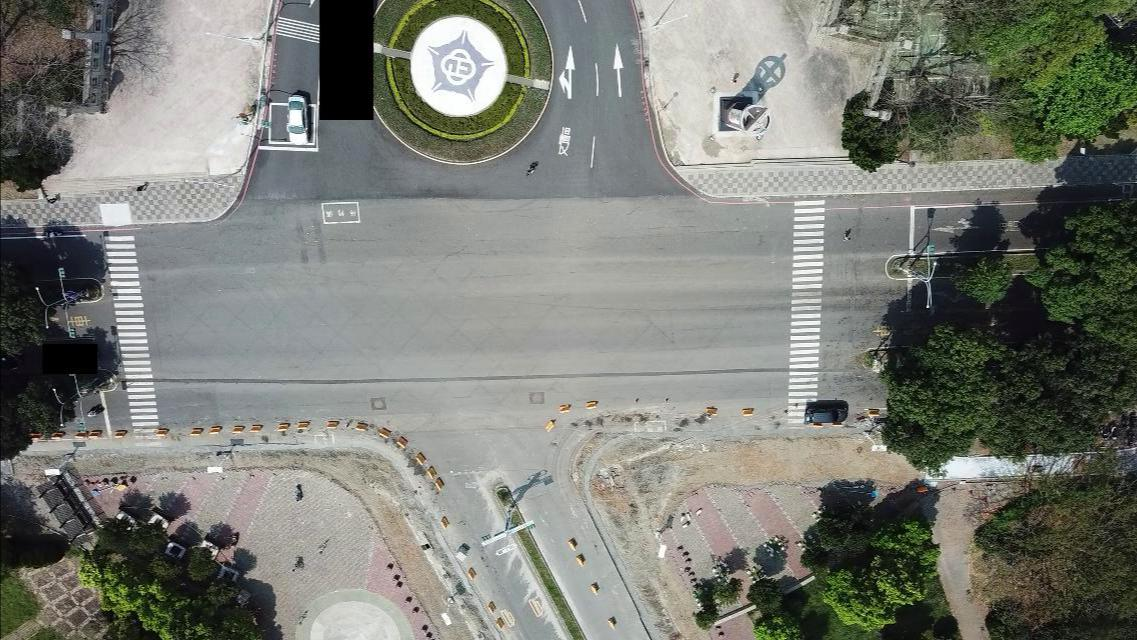vehicle: (286, 94, 311, 145), (805, 405, 849, 425)
